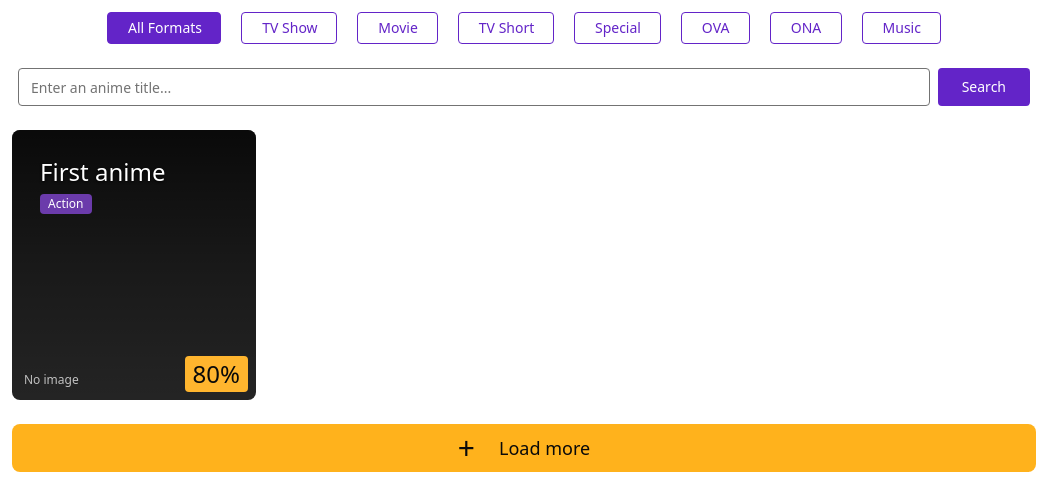
Test case: announces loading, appends results, and hides pagination at the end
The width and height of the screenshot is (1048, 489).
Expected: the heading "First anime" is shown, [40,155,165,188]
Click the button "+ Load more". click: (524, 448)
box: [12,424,1036,472]
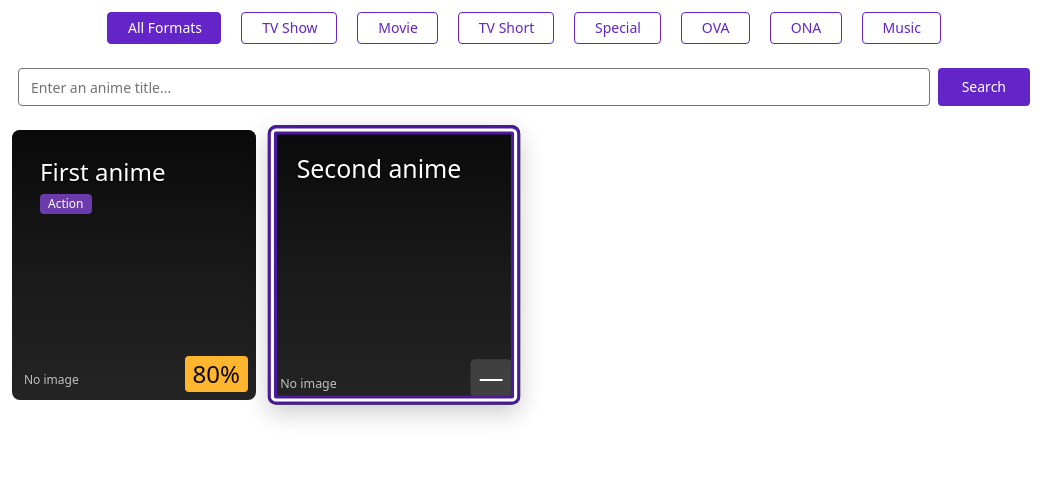
Now the heading "Second anime" is shown, box [297,151,461,185]
Now the text named "Score unavailable" is shown, box [471,359,512,396]
Now the button "Load more" is gone
